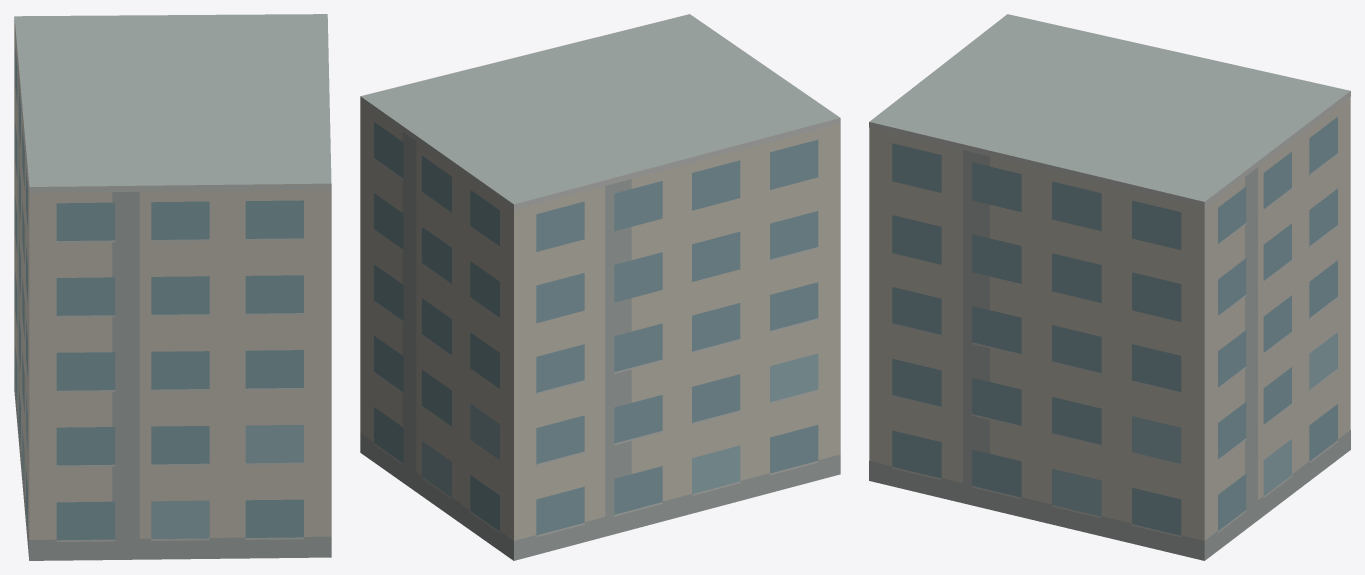
File: survey-upis-32876846.glb
3 renders of one model, left to right at view 1: azimuth 30°, elevation 25°; view 2: azimuth 150°, elevation 25°; view 3: azimuth 270°, elevation 25°, orthographic. The views are drawn at different scales.
Visible parts, largest first — view 1: survey-upis-32876846.tmp; view 2: survey-upis-32876846.tmp; view 3: survey-upis-32876846.tmp.
Boxes of the visible parts, x1,y1,x2,y2 form: survey-upis-32876846.tmp: [14, 14, 331, 560]; survey-upis-32876846.tmp: [360, 14, 840, 560]; survey-upis-32876846.tmp: [869, 14, 1350, 560].
Bounding box in the file's own units: 17.13 × 15.25 × 18.55.
